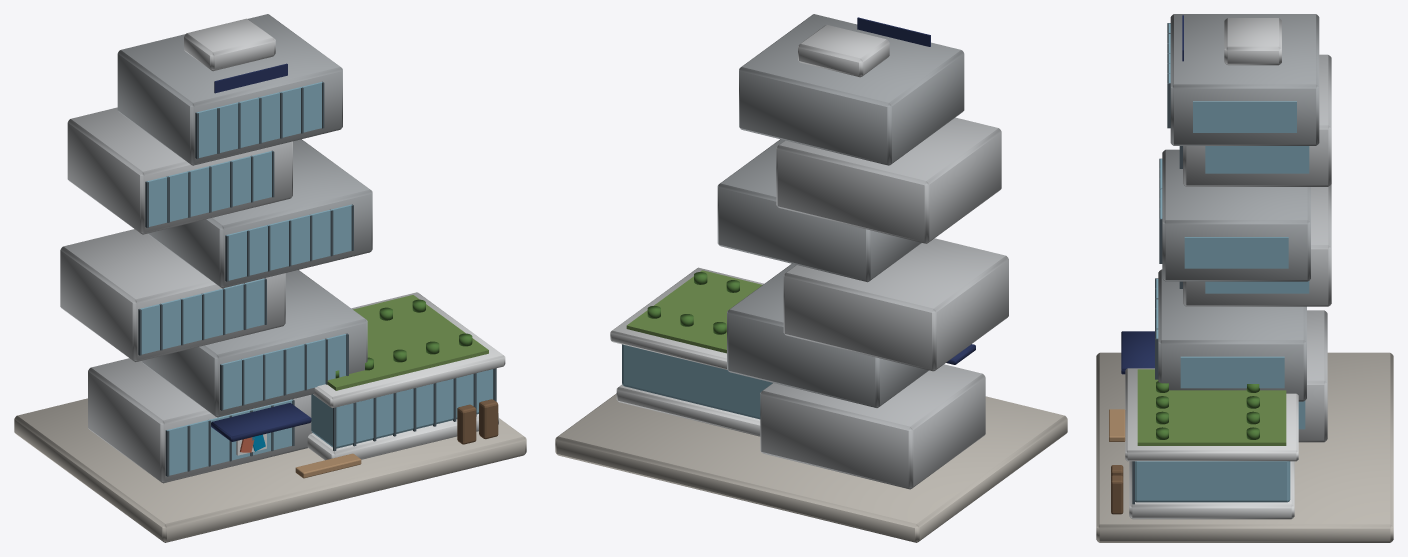
The model's file is lm_knowledge.glb.
The picture shows the model from 3 angles, left to right: view 1: azimuth 30°, elevation 25°; view 2: azimuth 150°, elevation 25°; view 3: azimuth 270°, elevation 25°; orthographic projection.
Parts seen in each view (by area): view 1: lm_knowledge; view 2: lm_knowledge; view 3: lm_knowledge.
Boxes of the visible parts, box(x1,y1,x2,y2) form: lm_knowledge: box(14, 14, 526, 542); lm_knowledge: box(555, 14, 1067, 542); lm_knowledge: box(1096, 14, 1393, 542).
Size of the model in its own units: 1 by 1.09 by 0.72.
